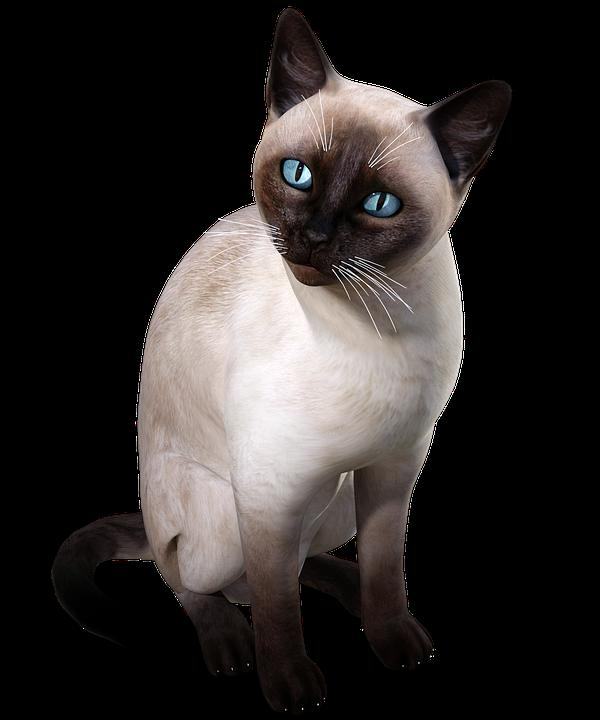siamese: (235, 1, 519, 312)
